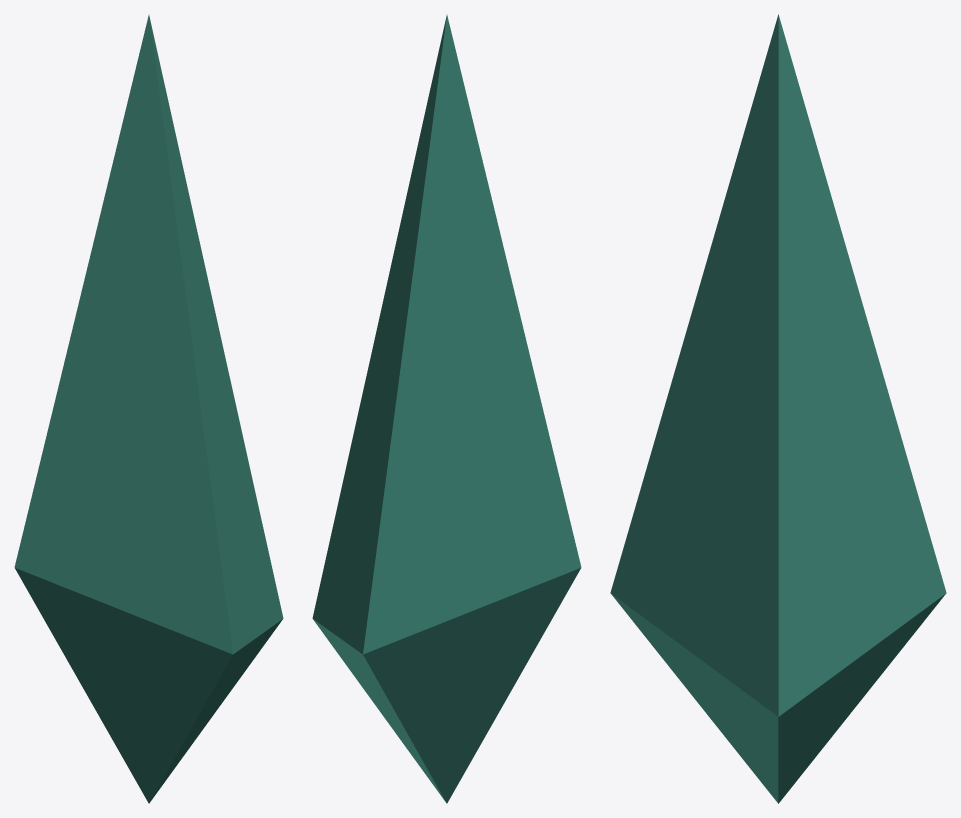
The model's file is AM_Crystal_03.fbx.
The picture shows the model from 3 angles, left to right: view 1: azimuth 30°, elevation 25°; view 2: azimuth 150°, elevation 25°; view 3: azimuth 270°, elevation 25°; orthographic projection.
Visible parts, largest first — view 1: AM_Crystal_03; view 2: AM_Crystal_03; view 3: AM_Crystal_03.
Part boxes in pixels (x1,y1,x2,y2): AM_Crystal_03: (14, 15, 283, 803); AM_Crystal_03: (312, 15, 581, 803); AM_Crystal_03: (610, 14, 946, 803).
Size of the model in its own units: 4.58 by 4.95 by 12.84.
